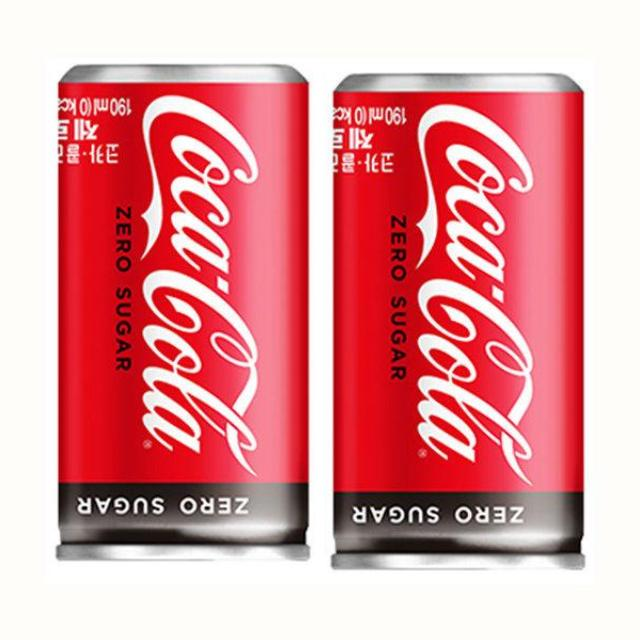coca-cola: (327, 65, 589, 578), (52, 61, 313, 573)
